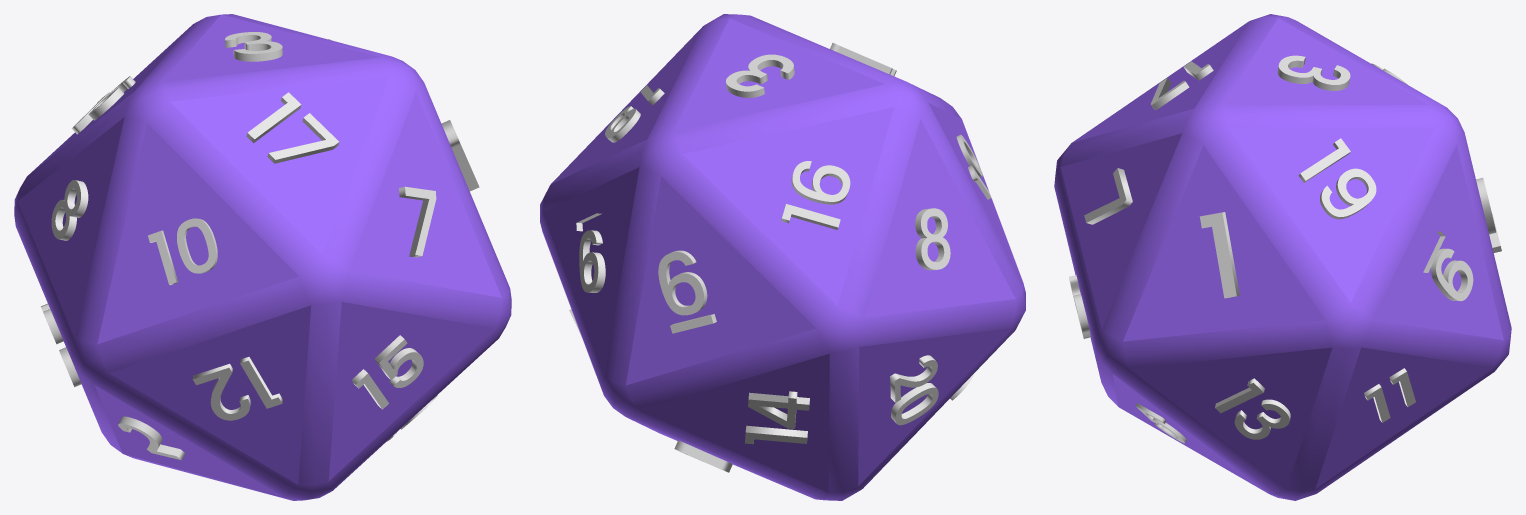
3 renders of one model, left to right at view 1: azimuth 30°, elevation 25°; view 2: azimuth 150°, elevation 25°; view 3: azimuth 270°, elevation 25°, orthographic. The views are drawn at different scales.
Parts seen in each view (by area): view 1: d20, d20_numbers; view 2: d20, d20_numbers; view 3: d20, d20_numbers.
Part boxes in pixels (x1,y1,x2,y2): d20: [14, 14, 511, 500]; d20_numbers: [41, 32, 479, 460]; d20: [540, 14, 1025, 500]; d20_numbers: [569, 43, 991, 472]; d20: [1054, 14, 1511, 500]; d20_numbers: [1069, 55, 1501, 443].
Bounding box in the file's own units: 0.7406 × 0.6714 × 0.7177.
